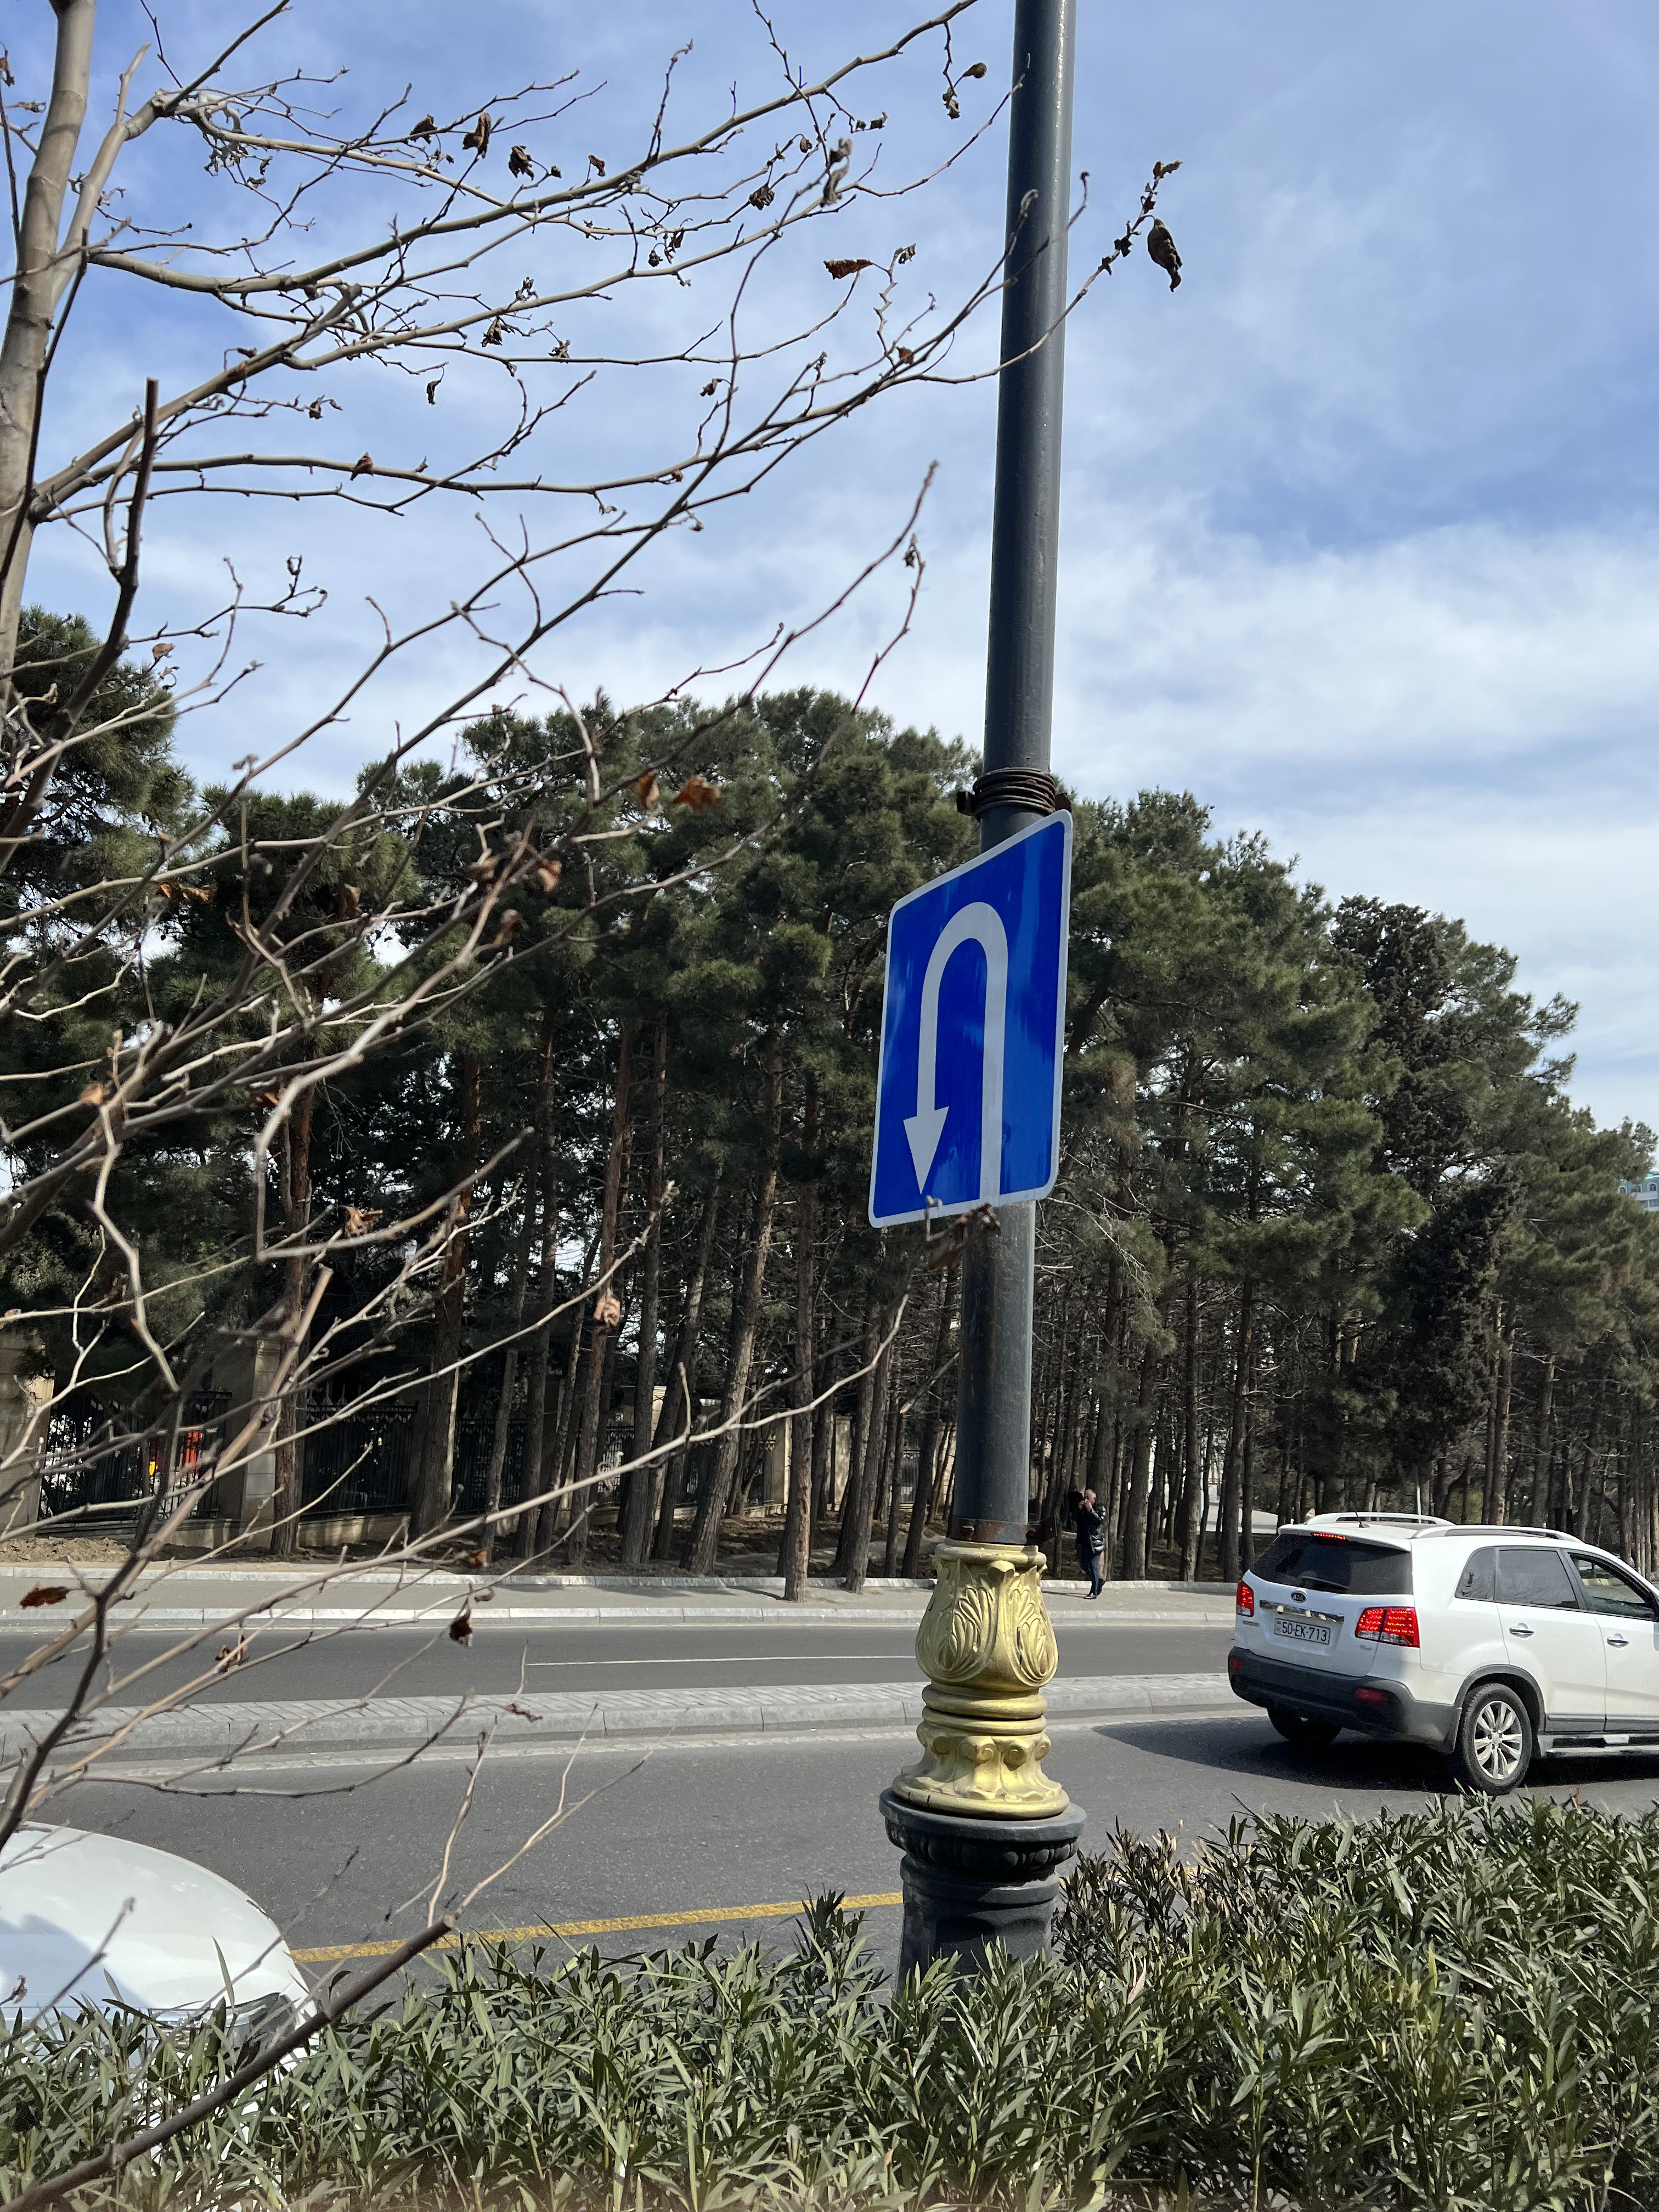U-turn: (866, 803, 1066, 1228)
